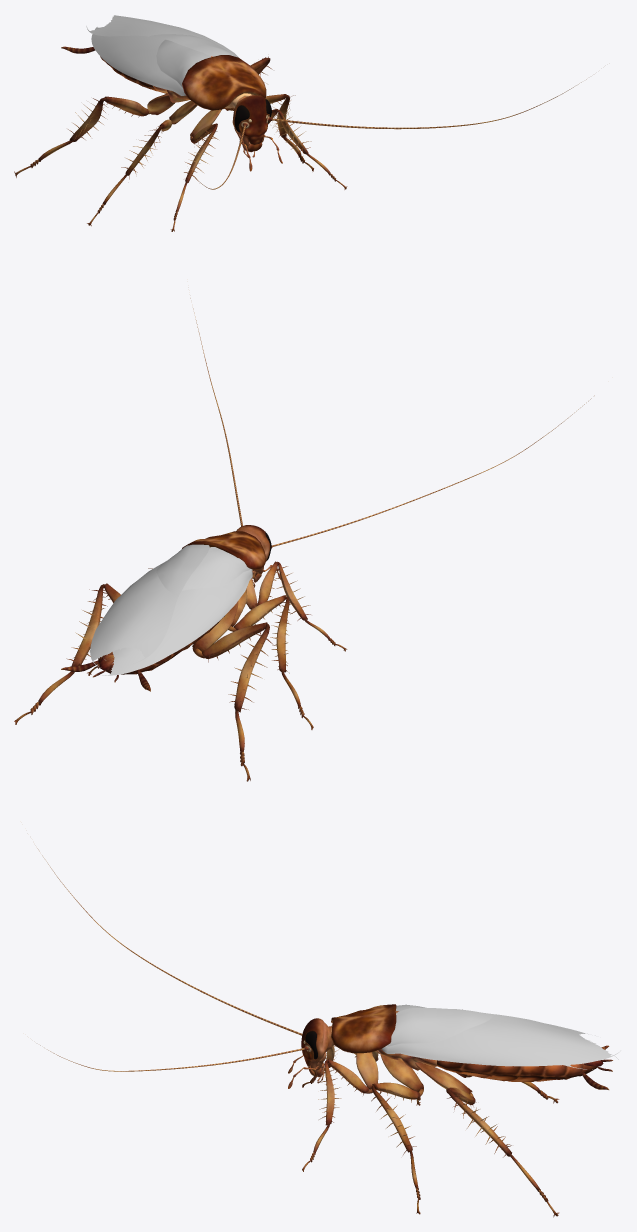
The model's file is cockroach_sketchfab_fix.fbx.
The picture shows the model from 3 angles, top to bottom: view 1: azimuth 30°, elevation 25°; view 2: azimuth 150°, elevation 25°; view 3: azimuth 270°, elevation 25°; orthographic projection.
Parts seen in each view (by area): view 1: R_mesothorax, Body, L_mesothorax, Head, R_hindleg, R_forleg, R_midleg, L_midleg, L_antena, L_forleg; view 2: L_mesothorax, R_mesothorax, R_hindleg, Body, R_midleg, L_hindleg, R_forleg; view 3: L_mesothorax, Body, L_midleg, L_hindleg, L_forleg, Head.
Part boxes in pixels (<box>): R_mesothorax: <box>91,27,210,95</box>; Body: <box>61,46,266,110</box>; L_mesothorax: <box>86,15,238,57</box>; Head: <box>232,95,282,171</box>; R_hindleg: <box>14,93,174,177</box>; R_forleg: <box>170,109,221,231</box>; R_midleg: <box>87,100,197,226</box>; L_midleg: <box>225,94,313,171</box>; L_antena: <box>272,79,586,129</box>; L_forleg: <box>269,109,347,189</box>; L_mesothorax: <box>90,544,209,667</box>; R_mesothorax: <box>88,547,252,675</box>; R_hindleg: <box>192,601,273,781</box>; Body: <box>61,531,265,691</box>; R_midleg: <box>228,588,313,729</box>; L_hindleg: <box>14,583,120,724</box>; R_forleg: <box>246,561,347,651</box>; L_mesothorax: <box>382,1008,620,1066</box>; Body: <box>331,1004,612,1089</box>; L_midleg: <box>371,1055,423,1214</box>; L_hindleg: <box>415,1062,559,1217</box>; L_forleg: <box>302,1052,378,1171</box>; Head: <box>288,1018,333,1088</box>.
Size of the model in its own units: 8.39 by 4.44 by 10.08.
